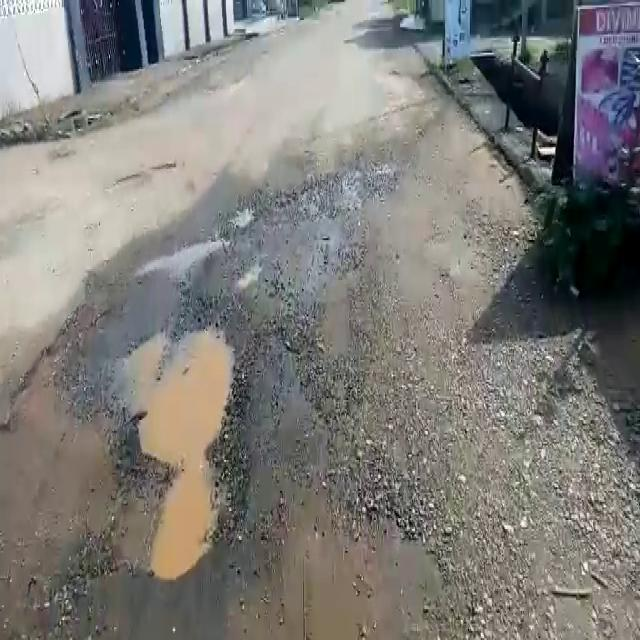Pothole: (117, 324, 235, 581), (231, 202, 256, 226)
